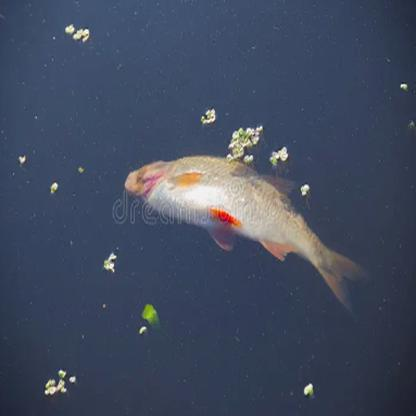deceased fish: (126, 155, 365, 312)
